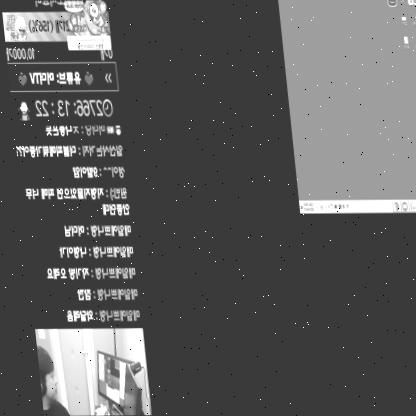donation: (63, 0, 110, 50)
streamer: (28, 345, 95, 416)
